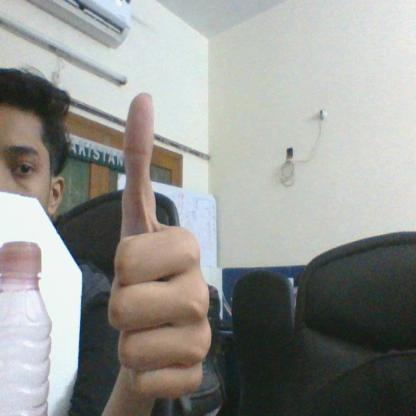thumbs-up: (100, 96, 211, 395)
